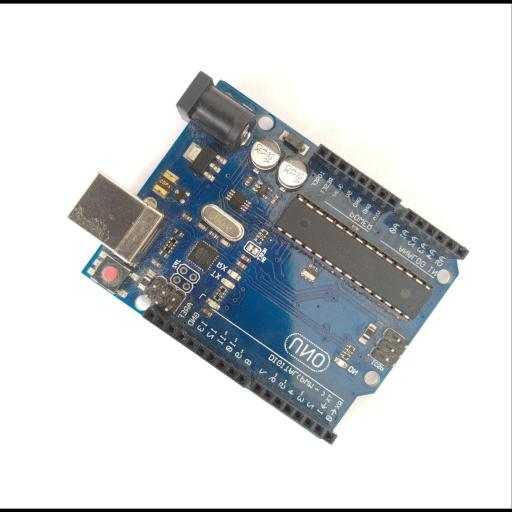Arduino Uno R3: (68, 70, 470, 446)
